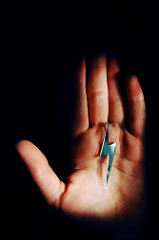palm: (73, 123, 148, 228)
